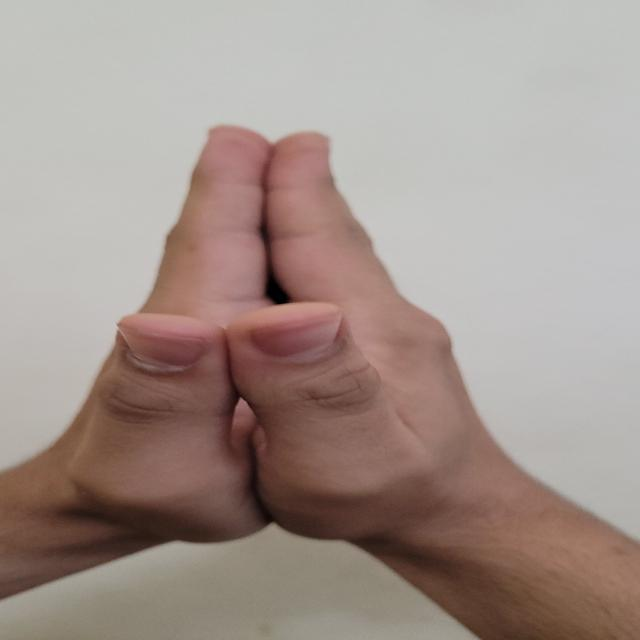Thank You: (33, 106, 520, 574)
